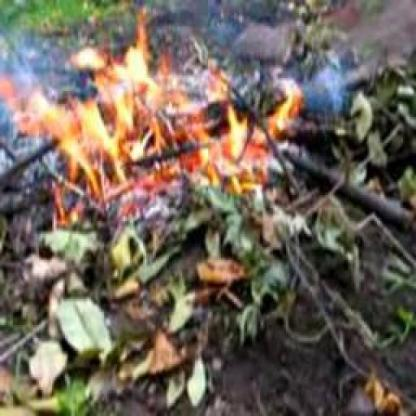fire: (0, 5, 303, 235)
